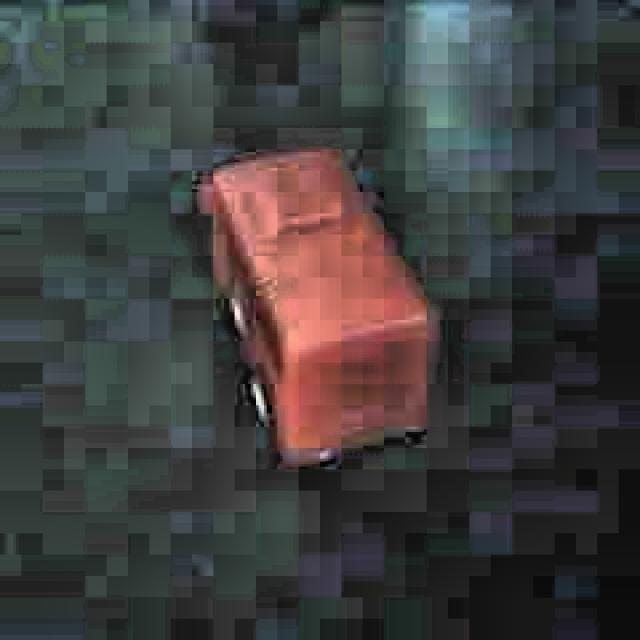bus: (189, 134, 432, 466)
